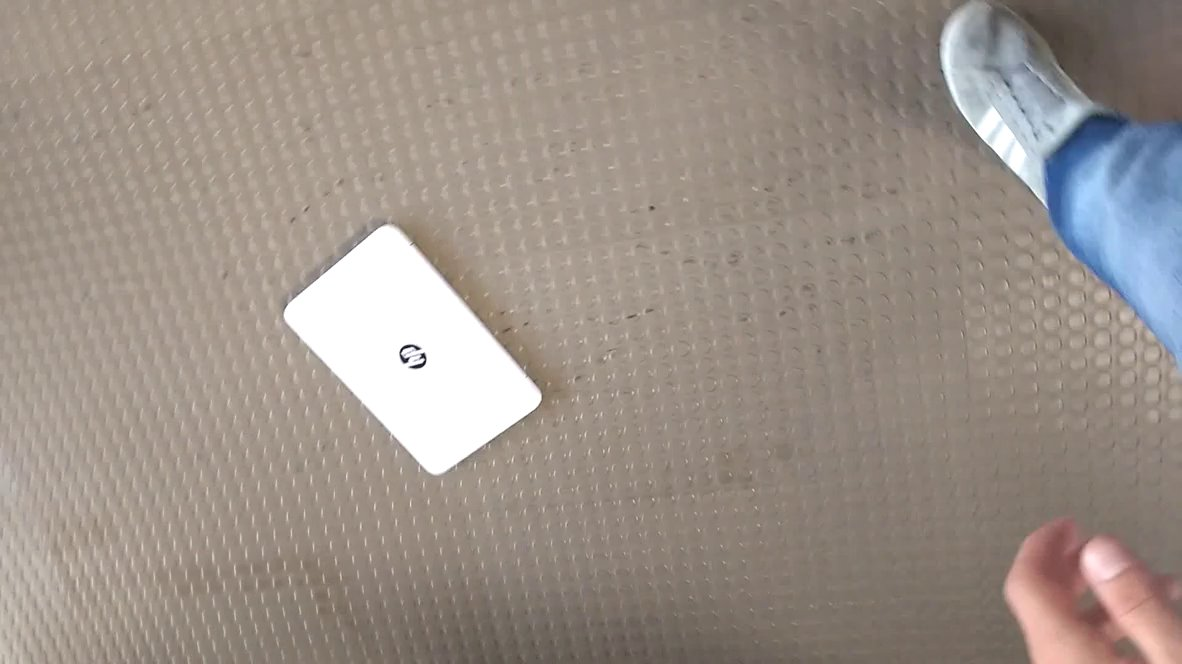laptop: (267, 215, 546, 488)
